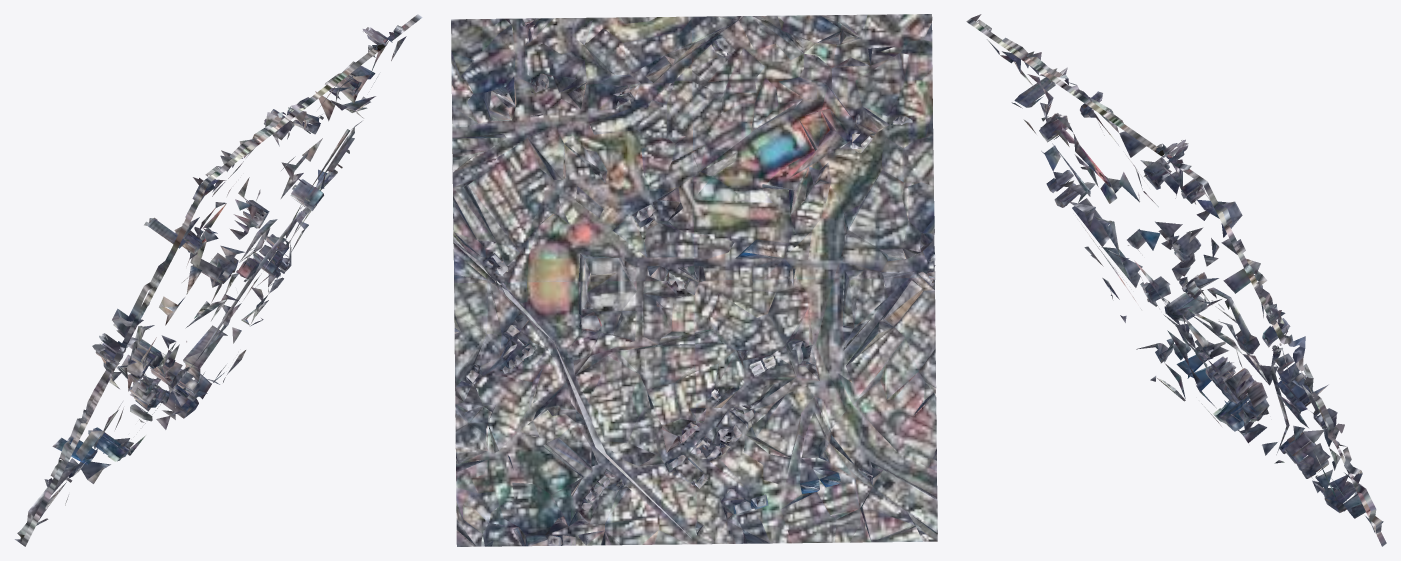
3 views of the same model, side by side, from view 1: azimuth 30°, elevation 25°; view 2: azimuth 150°, elevation 25°; view 3: azimuth 270°, elevation 25° (orthographic). The views are drawn at different scales.
Bounding box in the file's own units: 1231 × 1137 × 1030.
1 material, 1 textured.
